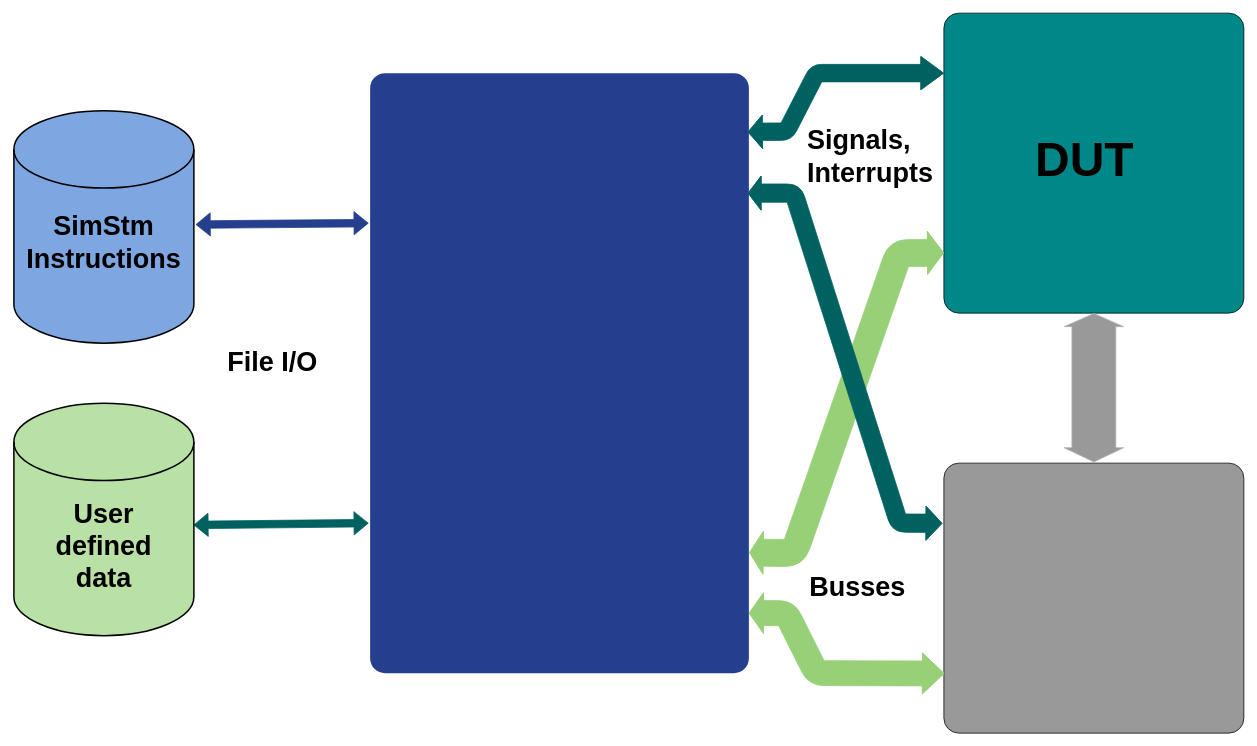
Some shapes in this 1257 by 746 pixel diagram are drawn without their labels. Each missing label, with the centre of its shape:
"Mocks" belongs at (1093,597).
"SimStm acting CPU like" belongs at (559,373).
